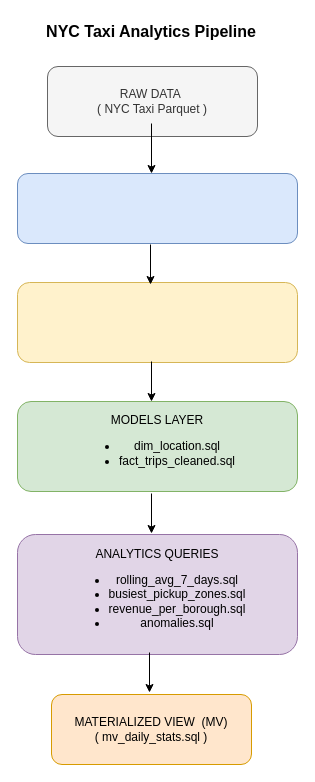
The diagram is 315 pixels wide and 782 high, and some of its shapes have lost their labels. Here are the shapes that lost their labels. From the top down, the centre of each, then its label:
At (x=157, y=208): "STAGING LAYER ( Staging_trips.sql )".
At (x=157, y=322): "CLEANING & QUALITY CHECKS ( fact_trips_cleaned.sql )".
